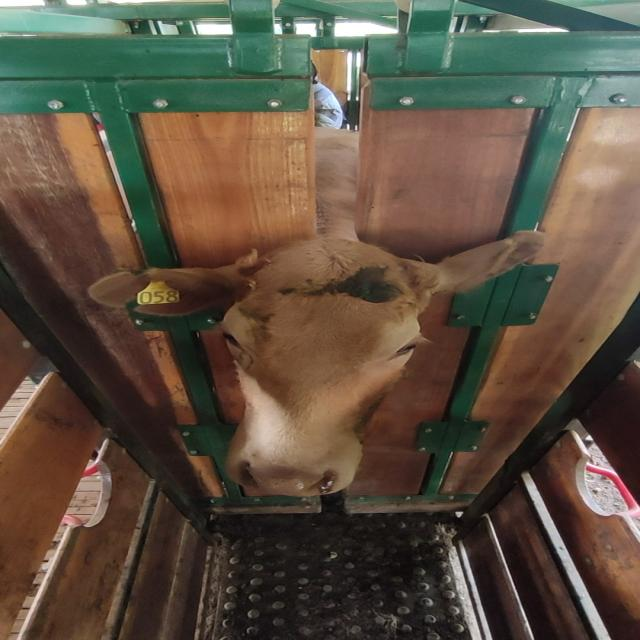cowFace: (221, 241, 424, 497)
